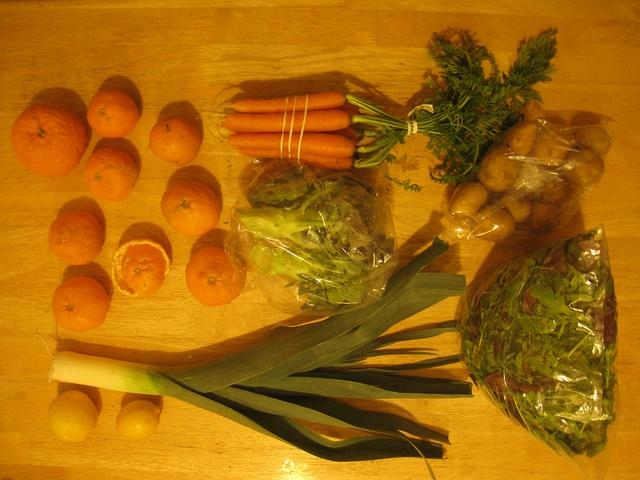carrot: (208, 92, 407, 125), (213, 136, 353, 172), (207, 110, 408, 134), (227, 132, 356, 158)
green onion: (34, 236, 475, 480)
orange: (12, 103, 86, 176), (186, 246, 247, 306), (111, 238, 170, 298), (160, 180, 220, 238), (52, 276, 110, 332), (48, 210, 102, 266), (82, 148, 138, 202), (150, 114, 202, 164), (87, 89, 140, 138)
potato: (477, 144, 520, 192), (528, 128, 576, 168), (470, 206, 515, 242), (564, 149, 604, 188), (448, 182, 488, 221), (522, 203, 562, 235), (503, 122, 539, 157), (573, 125, 611, 156), (501, 190, 534, 224), (541, 176, 572, 204)
